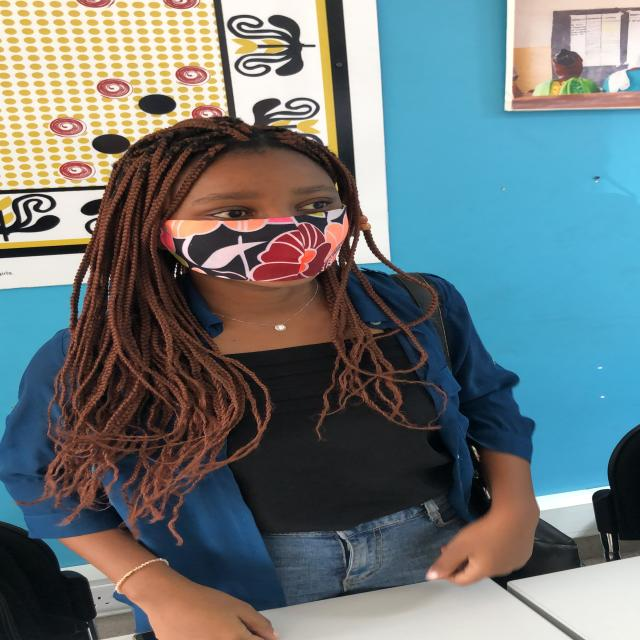mask: (166, 165, 354, 289)
